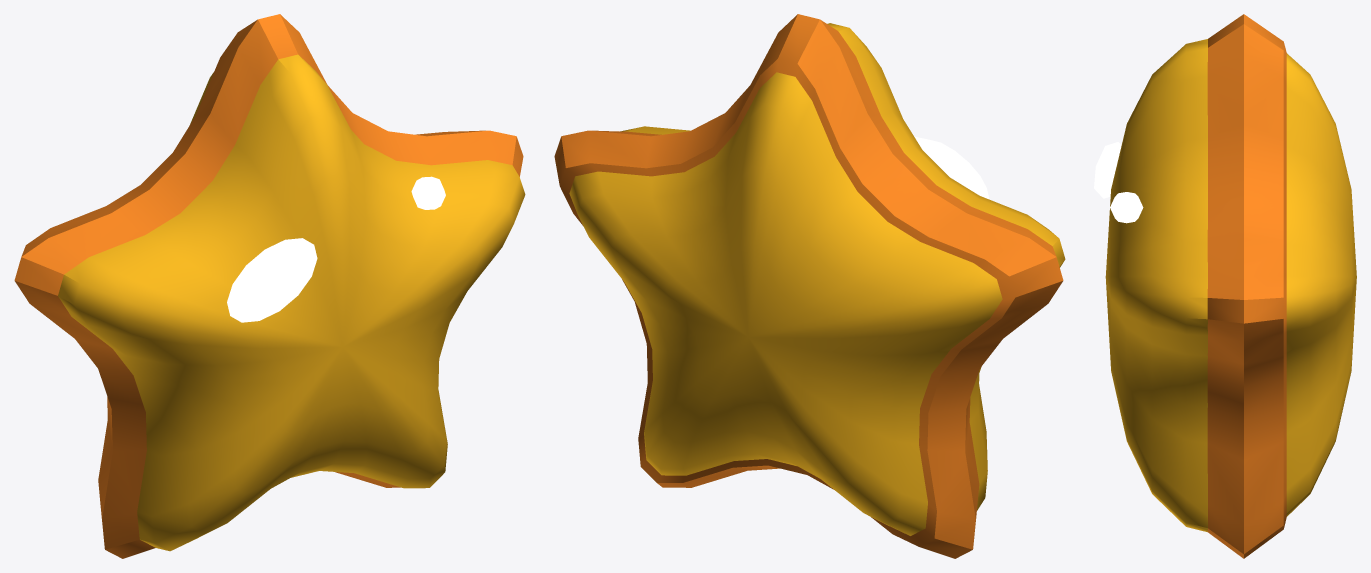
Rendered from pickup_star.glb.
3 views of the same model, side by side, from view 1: azimuth 30°, elevation 25°; view 2: azimuth 150°, elevation 25°; view 3: azimuth 270°, elevation 25° (orthographic). The views are drawn at different scales.
Visible parts, largest first — view 1: pickup_star; view 2: pickup_star; view 3: pickup_star.
Part boxes in pixels (x1,y1,x2,y2): pickup_star: (14, 14, 525, 558); pickup_star: (554, 14, 1065, 558); pickup_star: (1094, 14, 1356, 558).
Bounding box in the file's own units: 0.5247 × 0.499 × 0.2512.
